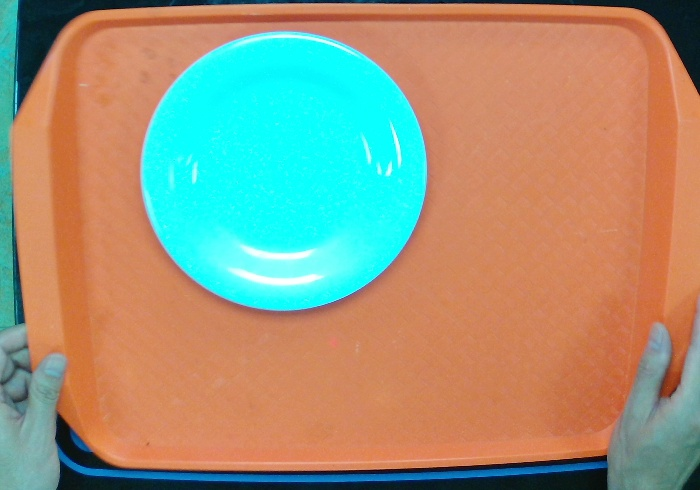RJxy-Yuan_Pan: (131, 17, 441, 324)
